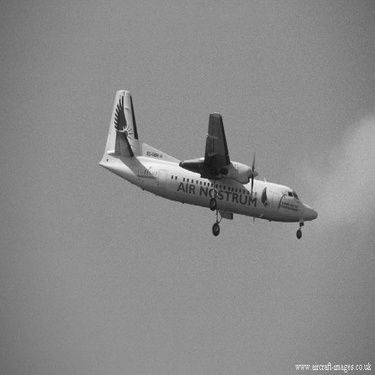airplane: (72, 74, 325, 250)
